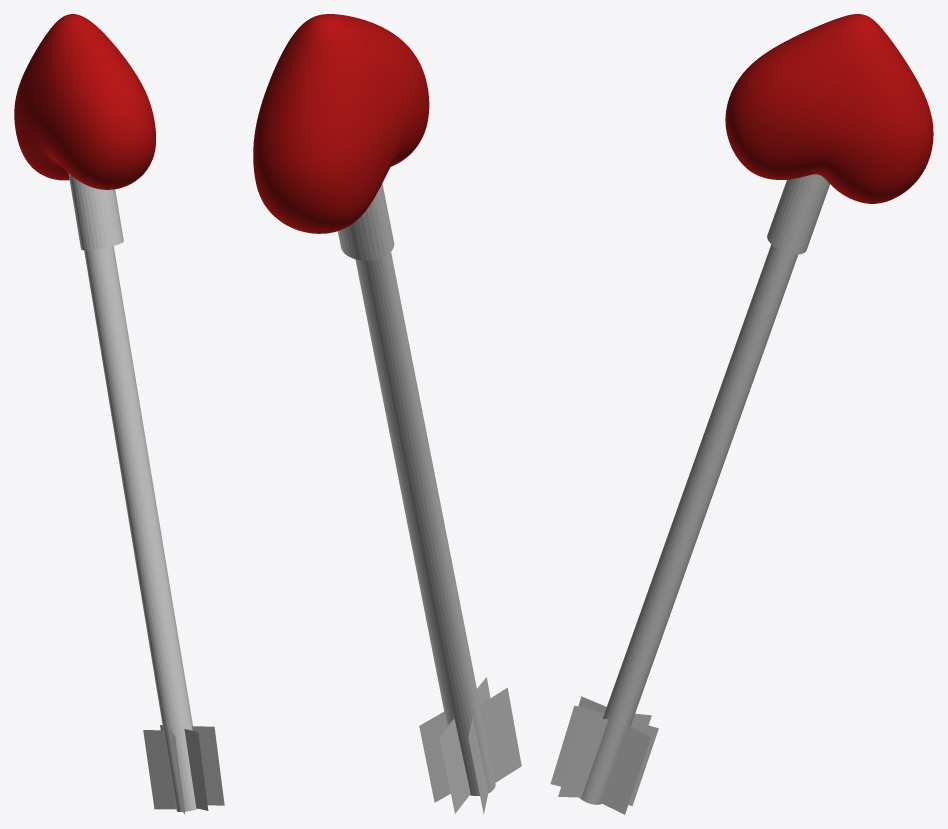
Rendered from beLOVED .obj.
3 views of the same model, side by side, from view 1: azimuth 30°, elevation 25°; view 2: azimuth 150°, elevation 25°; view 3: azimuth 270°, elevation 25° (orthographic). The views are drawn at different scales.
Visible parts, largest first — view 1: 12190_Heart_v1_L3.002, Cylinder.001, Cylinder.002, Plane.002, Plane.004, Plane.005; view 2: 12190_Heart_v1_L3.002, Cylinder.001, Cylinder.002, Plane.003, Plane.001, Plane, Plane.002; view 3: 12190_Heart_v1_L3.002, Cylinder.001, Cylinder.002, Plane.001, Plane.004, Plane.005.
Boxes of the visible parts, bbox=[...] form: 12190_Heart_v1_L3.002: bbox=[14, 14, 155, 189]; Cylinder.001: bbox=[84, 246, 198, 811]; Cylinder.002: bbox=[68, 173, 123, 250]; Plane.002: bbox=[143, 730, 176, 809]; Plane.004: bbox=[192, 726, 224, 805]; Plane.005: bbox=[184, 729, 208, 810]; 12190_Heart_v1_L3.002: bbox=[253, 14, 429, 233]; Cylinder.001: bbox=[355, 252, 495, 795]; Cylinder.002: bbox=[338, 183, 394, 260]; Plane.003: bbox=[480, 687, 521, 782]; Plane.001: bbox=[419, 711, 450, 802]; Plane: bbox=[439, 718, 470, 813]; Plane.002: bbox=[468, 717, 488, 814]; 12190_Heart_v1_L3.002: bbox=[725, 14, 933, 203]; Cylinder.001: bbox=[579, 244, 798, 804]; Cylinder.002: bbox=[767, 174, 829, 254]; Plane.001: bbox=[601, 725, 651, 814]; Plane.004: bbox=[558, 718, 608, 797]; Plane.005: bbox=[550, 705, 604, 786].
Bounding box in the file's own units: 0.2516 × 1.8 × 0.7887.
